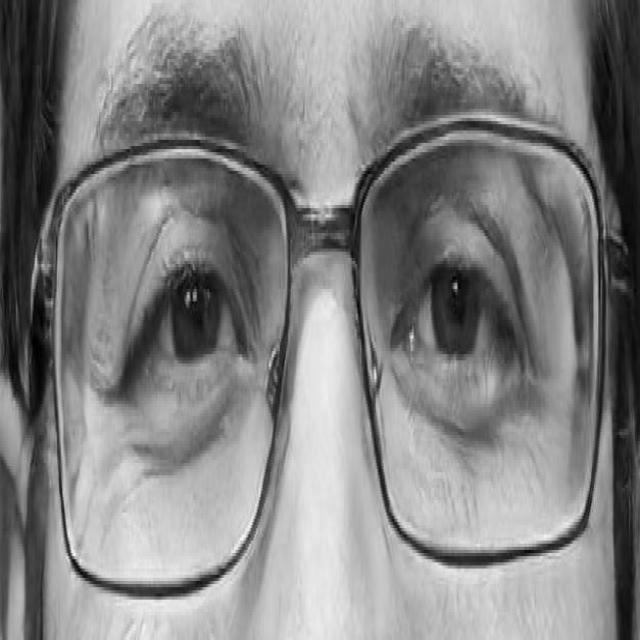real: (72, 77, 596, 540)
